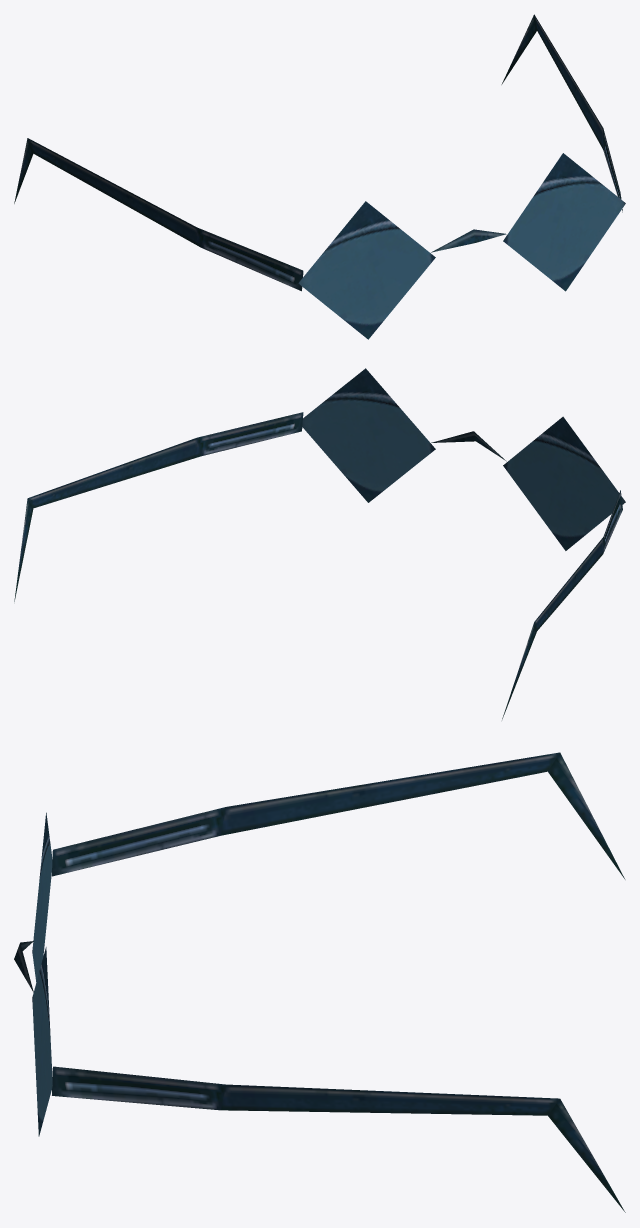
The model's file is Glasses6.glb.
The picture shows the model from 3 angles, top to bottom: view 1: azimuth 30°, elevation 25°; view 2: azimuth 150°, elevation 25°; view 3: azimuth 270°, elevation 25°; orthographic projection. The views are drawn at different scales.
Visible parts, largest first — view 1: Glasses6; view 2: Glasses6; view 3: Glasses6.
Part boxes in pixels (bbox=[...]): Glasses6: bbox=[14, 14, 625, 339]; Glasses6: bbox=[14, 368, 625, 719]; Glasses6: bbox=[14, 752, 625, 1212].
Size of the model in its own units: 9.69 by 2.5 by 7.24.
1 material, 1 textured.
